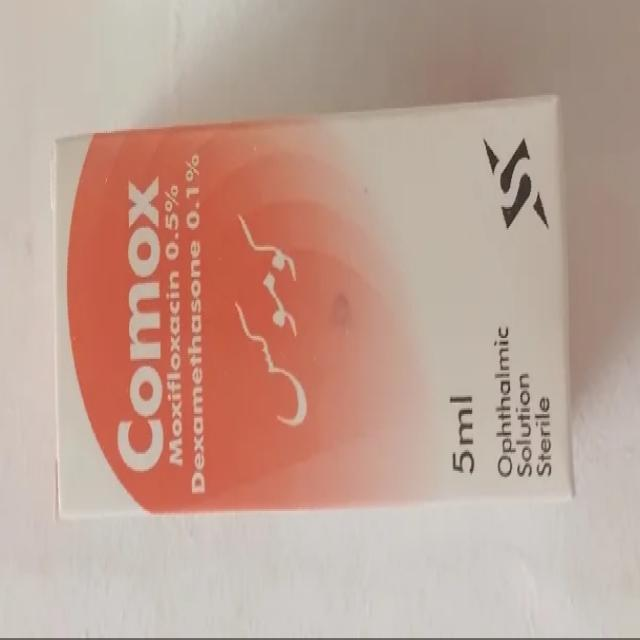drug-name: (110, 174, 163, 477)
